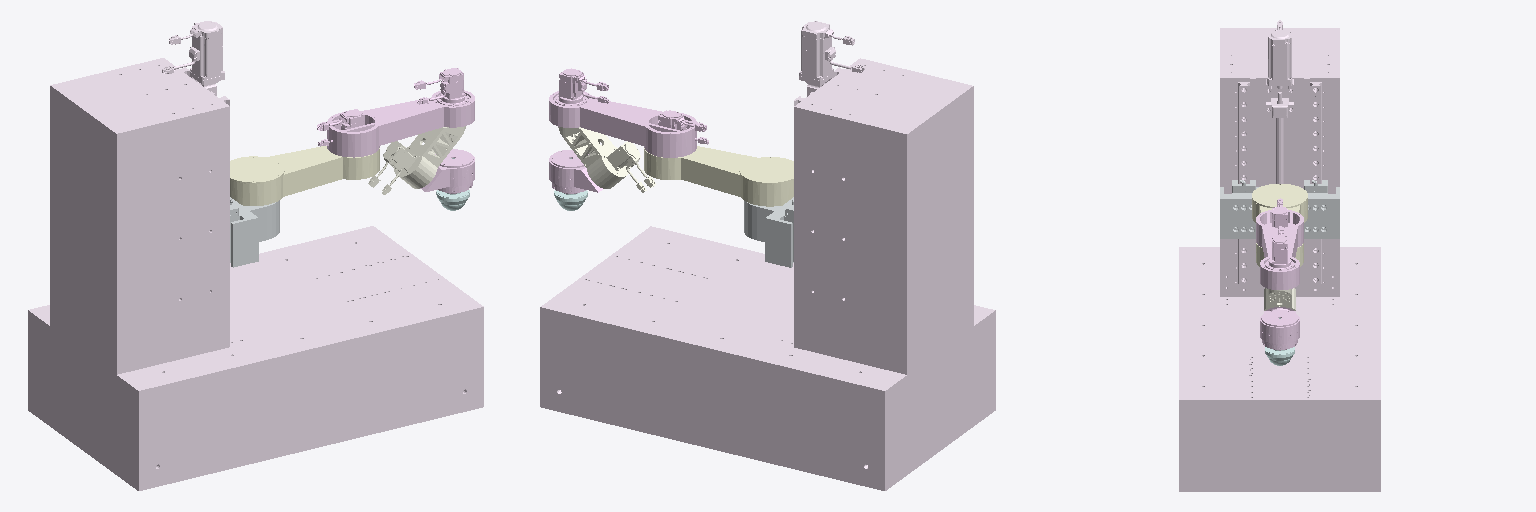
The robot description file, URDF, robot "mingurdf":
<?xml version="1.0" encoding="utf-8"?>
<!-- This URDF was automatically created by SolidWorks to URDF Exporter! Originally created by [author] ([email redacted]) 
     Commit Version: 1.6.0-4-g7f85cfe  Build Version: 1.6.7995.38578
     For more information, please see http://wiki.ros.org/sw_urdf_exporter -->
<robot
  name="mingurdf">
  <link name="base_footprint">
  </link>
  <joint name="base_footprint_joint" type="fixed">
    <parent link="base_footprint" />
    <child link="base_link" />
  </joint>

  <link
    name="base_link">
    <inertial>
      <origin
        xyz="-0.0911857881097258 -8.30196663443789E-08 -0.106885396772365"
        rpy="0 0 0" />
      <mass
        value="448.455291712727" />
      <inertia
        ixx="30.9134960552599"
        ixy="5.36772417285236E-05"
        ixz="12.5203241084851"
        iyy="53.9280769799438"
        iyz="1.30394915172682E-06"
        izz="37.81104965848" />
    </inertial>
    <visual>
      <origin
        xyz="0 0 0"
        rpy="0 0 0" />
      <geometry>
        <mesh
          filename="package://mingurdf/meshes/base_link.STL" />
      </geometry>
      <material
        name="">
        <color
          rgba="1 0.95 1 1" />
      </material>
    </visual>
    <collision>
      <origin
        xyz="0 0 0"
        rpy="0 0 0" />
      <geometry>
        <mesh
          filename="package://mingurdf/meshes/base_link.STL" />
      </geometry>
    </collision>
  </link>
    <gazebo reference="base_link">
        <kinematic>1</kinematic>
        <material>Gazebo/White</material>
    </gazebo>
  <link
    name="zuobiao1">
    <inertial>
      <origin
        xyz="-0.0730125778611653 -0.00193381535218838 0.129516675570009"
        rpy="0 0 0" />
      <mass
        value="6.30779983026107" />
      <inertia
        ixx="0.0323636140052051"
        ixy="-0.000620304176738022"
        ixz="-3.5386391122811E-05"
        iyy="0.0176326975631143"
        iyz="5.8982317239007E-06"
        izz="0.0389930743174185" />
    </inertial>
    <visual>
      <origin
        xyz="0 0 0"
        rpy="0 0 0" />
      <geometry>
        <mesh
          filename="package://mingurdf/meshes/zuobiao1.STL" />
      </geometry>
      <material
        name="">
        <color
          rgba="0.898039215686275 0.917647058823529 0.929411764705882 1" />
      </material>
    </visual>
    <collision>
      <origin
        xyz="0 0 0"
        rpy="0 0 0" />
      <geometry>
        <mesh
          filename="package://mingurdf/meshes/zuobiao1.STL" />
      </geometry>
    </collision>
  </link>
      <gazebo reference="zuobiao1">
        <material>Gazebo/White</material>
      </gazebo>
  <joint
    name="zhixianmove"
    type="prismatic">
    <origin
      xyz="0 0 0"
      rpy="0 0 0" />
    <parent
      link="base_link" />
    <child
      link="zuobiao1" />
    <axis
      xyz="0 0 1" />
    <limit
      lower="0"
      upper="0.19"
      effort="10000"
      velocity="1000" />
  </joint>
  <link
    name="zuobiao2">
    <inertial>
      <origin
        xyz="0.108075719291185 -4.88178375396993E-17 0.160924114447853"
        rpy="0 0 0" />
      <mass
        value="3.33164684937567" />
      <inertia
        ixx="0.00472553809345875"
        ixy="2.27816436130718E-18"
        ixz="0.00117151756376351"
        iyy="0.0393814222121523"
        iyz="1.33224960462247E-19"
        izz="0.0426002783406026" />
    </inertial>
    <visual>
      <origin
        xyz="0 0 0"
        rpy="0 0 0" />
      <geometry>
        <mesh
          filename="package://mingurdf/meshes/zuobiao2.STL" />
      </geometry>
      <material
        name="">
        <color
          rgba="1 1 0.9 1" />
      </material>
    </visual>
    <collision>
      <origin
        xyz="0 0 0"
        rpy="0 0 0" />
      <geometry>
        <mesh
          filename="package://mingurdf/meshes/zuobiao2.STL" />
      </geometry>
    </collision>
  </link>
      <gazebo reference="zuobiao2">
        <material>Gazebo/White</material>
      </gazebo>
  <joint
    name="zhuan1"
    type="revolute">
    <origin
      xyz="0 0 0.037731"
      rpy="0 0 0" />
    <parent
      link="zuobiao1" />
    <child
      link="zuobiao2" />
    <axis
      xyz="0 0 1" />
    <limit
      lower="-1.57"
      upper="1.57"
      effort="10"
      velocity="10" />
  </joint>
  <link
    name="zuobiao3">
    <inertial>
      <origin
        xyz="0.0973872089275022 -1.52786082991248E-05 0.221695666648077"
        rpy="0 0 0" />
      <mass
        value="2.73296761154439" />
      <inertia
        ixx="0.00295417661232808"
        ixy="-2.50064683376093E-06"
        ixz="-0.00150640062102406"
        iyy="0.0263468290547237"
        iyz="5.44698987392585E-08"
        izz="0.027679166905413" />
    </inertial>
    <visual>
      <origin
        xyz="0 0 0"
        rpy="0 0 0" />
      <geometry>
        <mesh
          filename="package://mingurdf/meshes/zuobiao3.STL" />
      </geometry>
      <material
        name="">
        <color
          rgba="1 0.9 1 1" />
      </material>
    </visual>
    <collision>
      <origin
        xyz="0 0 0"
        rpy="0 0 0" />
      <geometry>
        <mesh
          filename="package://mingurdf/meshes/zuobiao3.STL" />
      </geometry>
    </collision>
  </link>
      <gazebo reference="zuobiao3">
        <material>Gazebo/White</material>
      </gazebo>
  <joint
    name="zhuan2"
    type="revolute">
    <origin
      xyz="0.26 0 0"
      rpy="0 0 0" />
    <parent
      link="zuobiao2" />
    <child
      link="zuobiao3" />
    <axis
      xyz="0 0 -1" />
    <limit
      lower="-3.142"
      upper="3.142"
      effort="10"
      velocity="10" />
  </joint>
  <link
    name="zuobiao4">
    <inertial>
      <origin
        xyz="-0.000104161259009247 0.0632858569439245 0.141469261146007"
        rpy="0 0 0" />
      <mass
        value="1.16079385341549" />
      <inertia
        ixx="0.00340418846413939"
        ixy="7.39976587143445E-07"
        ixz="-8.67663472417606E-07"
        iyy="0.0019704941257227"
        iyz="0.00137214690299302"
        izz="0.00238974121657912" />
    </inertial>
    <visual>
      <origin
        xyz="0 0 0"
        rpy="0 0 0" />
      <geometry>
        <mesh
          filename="package://mingurdf/meshes/zuobiao4.STL" />
      </geometry>
      <material
        name="">
        <color
          rgba="1 1 0.95 1" />
      </material>
    </visual>
    <collision>
      <origin
        xyz="0 0 0"
        rpy="0 0 0" />
      <geometry>
        <mesh
          filename="package://mingurdf/meshes/zuobiao4.STL" />
      </geometry>
    </collision>
  </link>
      <gazebo reference="zuobiao4">
        <material>Gazebo/White</material>
      </gazebo>
  <joint
    name="zhuan3"
    type="revolute">
    <origin
      xyz="0.26 0 0"
      rpy="0 0 1.5708" />
    <parent
      link="zuobiao3" />
    <child
      link="zuobiao4" />
    <axis
      xyz="0 0 -1" />
    <limit
      lower="-0.2"
      upper="6.283"
      effort="10"
      velocity="10" />

  </joint>
  <link
    name="zuobiao5">
    <inertial>
      <origin
        xyz="-3.28386382188242E-09 -0.0325666734533583 0.0615766016931337"
        rpy="0 0 0" />
      <mass
        value="1.17546911173839" />
      <inertia
        ixx="0.00131428250418852"
        ixy="1.19821788071572E-10"
        ixz="-2.39301241706768E-10"
        iyy="0.00142734787023168"
        iyz="-0.000488076955488595"
        izz="0.00146142645399807" />
    </inertial>
    <visual>
      <origin
        xyz="0 0 0"
        rpy="0 0 0" />
      <geometry>
        <mesh
          filename="package://mingurdf/meshes/zuobiao5.STL" />
      </geometry>
      <material
        name="">
        <color
          rgba="1 0.9 1 1" />
      </material>
    </visual>
    <collision>
      <origin
        xyz="0 0 0"
        rpy="0 0 0" />
      <geometry>
        <mesh
          filename="package://mingurdf/meshes/zuobiao5.STL" />
      </geometry>
    </collision>
  </link>
      <gazebo reference="zuobiao5">
        <material>Gazebo/White</material>
      </gazebo>
  <joint
    name="zhuan4"
    type="revolute">
    <origin
      xyz="0 0 0"
      rpy="-0.7854 0 0" />
    <parent
      link="zuobiao4" />
    <child
      link="zuobiao5" />
    <axis
      xyz="0 0 -1" />
    <limit
      lower="-3.14159"
      upper="3.14159"
      effort="10"
      velocity="10" />
  </joint>
  <link
    name="zuobiao6">
    <inertial>
      <origin
        xyz="7.75352320290942E-06 1.57367979316536E-05 0.0352281757037771"
        rpy="0 0 0" />
      <mass
        value="0.348126651606832" />
      <inertia
        ixx="0.000150983782199253"
        ixy="-9.05933897929456E-09"
        ixz="7.74950103975545E-08"
        iyy="0.000151097790869217"
        iyz="1.57286344201923E-07"
        izz="0.000159818104969042" />
    </inertial>
    <visual>
      <origin
        xyz="0 0 0"
        rpy="0 0 0" />
      <geometry>
        <mesh
          filename="package://mingurdf/meshes/zuobiao6.STL" />
      </geometry>
      <material
        name="">
        <color
          rgba="0.9 1 1 1" />
      </material>
    </visual>
    <collision>
      <origin
        xyz="0 0 0"
        rpy="0 0 0" />
      <geometry>
        <mesh
          filename="package://mingurdf/meshes/zuobiao6.STL" />
      </geometry>
    </collision>
  </link>
      <gazebo reference="zuobiao6">
        <material>Gazebo/White</material>
      </gazebo>
  <joint
    name="zhuan5"
    type="continuous">
    <origin
      xyz="0 0 0"
      rpy="0.7854 0 0" />
    <parent
      link="zuobiao5" />
    <child
      link="zuobiao6" />
    <axis
      xyz="0 0 -1" />
  </joint>

    <transmission name="trans_zhixianmove">
        <type>transmission_interface/SimpleTransmission</type>
        <joint name="zhixianmove">
            <hardwareInterface>hardware_interface/PositionJointInterface</hardwareInterface>
        </joint>
        <actuator name="zhixianmove_motor">
            <hardwareInterface>hardware_interface/PositionJointInterface</hardwareInterface>
            <mechanicalReduction>100</mechanicalReduction>
        </actuator>
    </transmission>
    <transmission name="trans_zhuan1">
        <type>transmission_interface/SimpleTransmission</type>
        <joint name="zhuan1">
            <hardwareInterface>hardware_interface/PositionJointInterface</hardwareInterface>
        </joint>
        <actuator name="zhuan1_motor">
            <hardwareInterface>hardware_interface/PositionJointInterface</hardwareInterface>
            <mechanicalReduction>100</mechanicalReduction>
        </actuator>
    </transmission>
    <transmission name="trans_zhuan2">
        <type>transmission_interface/SimpleTransmission</type>
        <joint name="zhuan2">
            <hardwareInterface>hardware_interface/PositionJointInterface</hardwareInterface>
        </joint>
        <actuator name="zhuan2_motor">
            <hardwareInterface>hardware_interface/PositionJointInterface</hardwareInterface>
            <mechanicalReduction>100</mechanicalReduction>
        </actuator>
    </transmission>
    <transmission name="trans_zhuan3">
        <type>transmission_interface/SimpleTransmission</type>
        <joint name="zhuan3">
            <hardwareInterface>hardware_interface/PositionJointInterface</hardwareInterface>
        </joint>
        <actuator name="zhuan3_motor">
            <hardwareInterface>hardware_interface/PositionJointInterface</hardwareInterface>
            <mechanicalReduction>100</mechanicalReduction>
        </actuator>
    </transmission>
    <transmission name="trans_zhuan4">
        <type>transmission_interface/SimpleTransmission</type>
        <joint name="zhuan4">
            <hardwareInterface>hardware_interface/PositionJointInterface</hardwareInterface>
        </joint>
        <actuator name="zhuan4_motor">
            <hardwareInterface>hardware_interface/PositionJointInterface</hardwareInterface>
            <mechanicalReduction>100</mechanicalReduction>
        </actuator>
    </transmission>
    <transmission name="trans_zhuan5">
        <type>transmission_interface/SimpleTransmission</type>
        <joint name="zhuan5">
            <hardwareInterface>hardware_interface/PositionJointInterface</hardwareInterface>
        </joint>
        <actuator name="zhuan5_motor">
            <hardwareInterface>hardware_interface/PositionJointInterface</hardwareInterface>
            <mechanicalReduction>1</mechanicalReduction>
        </actuator>
    </transmission>
    <gazebo>
        <plugin name="gazebo_ros_control" filename="libgazebo_ros_control.so">
            <robotNamespace>/arm</robotNamespace>
            <controlPeriod>0.001</controlPeriod>
        </plugin>
    </gazebo>

</robot>

--- Facts derived from the render (not from the file) ---
Views: 3 orthographic renders of the robot side by side, from view 1: azimuth 30°, elevation 25°; view 2: azimuth 150°, elevation 25°; view 3: azimuth 270°, elevation 25°.
Robot: mingurdf — 8 links, 7 joints (4 revolute, 1 continuous, 1 prismatic, 1 fixed); root link base_footprint; default pose: every joint at zero.
Links seen in each view (by area): view 1: base_link, zuobiao3, zuobiao2, zuobiao4, zuobiao1, zuobiao5; view 2: base_link, zuobiao3, zuobiao2, zuobiao4, zuobiao1, zuobiao5; view 3: base_link, zuobiao1, zuobiao3, zuobiao2, zuobiao5, zuobiao4.
Link boxes in pixels (<box>): base_link: <box>28,21,483,490</box>; zuobiao3: <box>317,68,474,157</box>; zuobiao2: <box>230,146,379,205</box>; zuobiao4: <box>368,126,465,194</box>; zuobiao1: <box>230,197,279,267</box>; zuobiao5: <box>420,149,474,193</box>; base_link: <box>540,21,995,490</box>; zuobiao3: <box>549,68,708,157</box>; zuobiao2: <box>644,146,793,206</box>; zuobiao4: <box>558,127,655,192</box>; zuobiao1: <box>744,197,793,267</box>; zuobiao5: <box>549,150,602,193</box>; base_link: <box>1179,20,1380,491</box>; zuobiao1: <box>1220,180,1339,238</box>; zuobiao3: <box>1256,198,1303,289</box>; zuobiao2: <box>1252,184,1307,266</box>; zuobiao5: <box>1260,307,1299,350</box>; zuobiao4: <box>1264,288,1295,310</box>.
Size in the robot's own frame: 1.01 by 0.5 by 0.9833 metres.
Meshes: 7 distinct files referenced, 7 mesh visuals loaded (7 binary STL).
